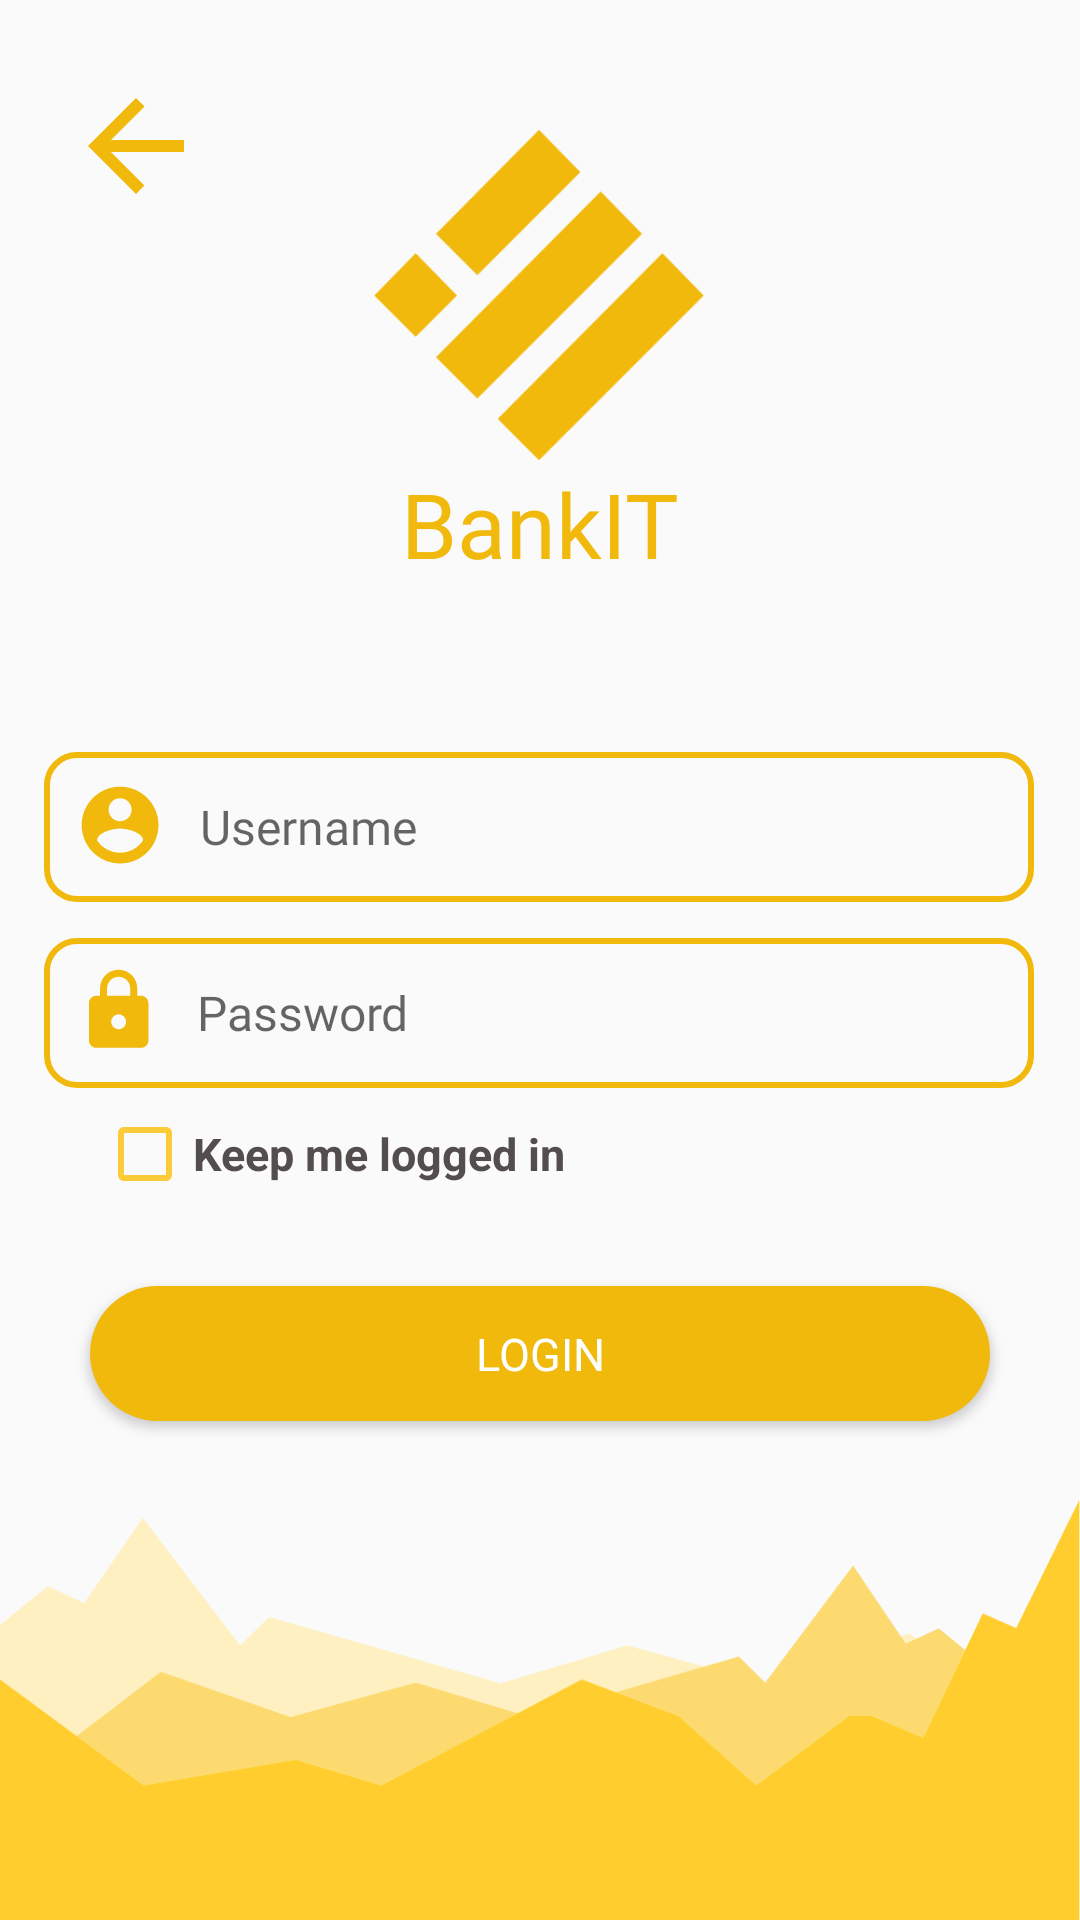

Screen size 1080 x 1920. Icon name, then its center in pixels as [x,y]:
back: [136,146]
